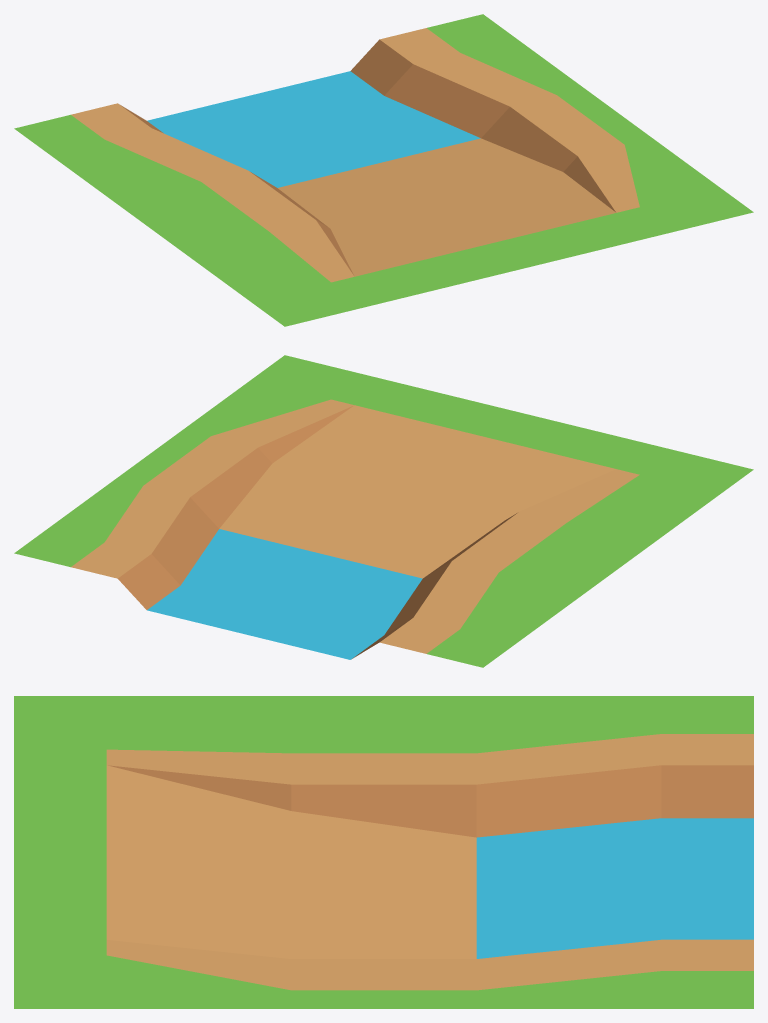
Rendered from river-end.glb.
3 views of the same model, one above another, from view 1: azimuth 30°, elevation 25°; view 2: azimuth 150°, elevation 25°; view 3: azimuth 270°, elevation 25° (orthographic). The views are drawn at different scales.
Visible parts, largest first — view 1: ground_riverEnd; view 2: ground_riverEnd; view 3: ground_riverEnd.
Part boxes in pixels (x1=…): ground_riverEnd: x1=14, y1=14, x2=753, y2=326; ground_riverEnd: x1=14, y1=355, x2=753, y2=667; ground_riverEnd: x1=14, y1=696, x2=753, y2=1008.
Bounding box in the file's own units: 4 × 0.2002 × 4.
